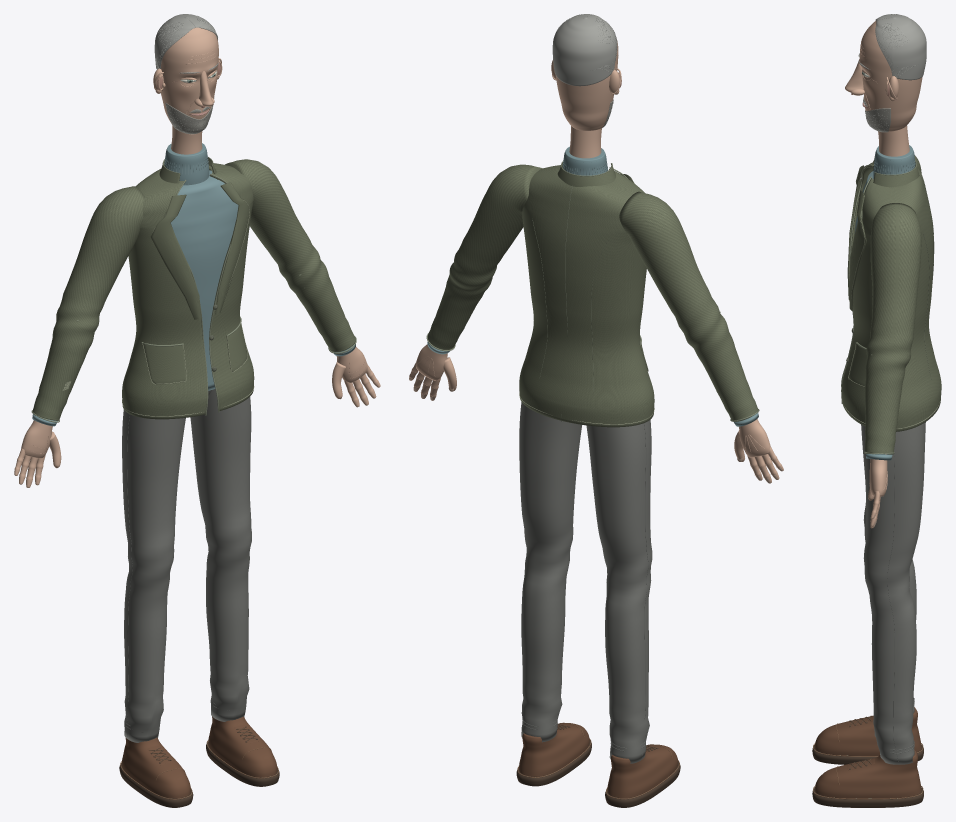
The picture shows the model from 3 angles, left to right: view 1: azimuth 30°, elevation 25°; view 2: azimuth 150°, elevation 25°; view 3: azimuth 270°, elevation 25°; orthographic projection. The views are drawn at different scales.
Visible parts, largest first — view 1: Jacket / tailored continuous torso, L trouser leg, R trouser leg, Jacket / shaped sleeve -1, Jacket / shaped sleeve 1, Underlayer / long sleeved merino body, Shoes / leather upper, Head / continuous aged facial sculpt, Jacket / notched lapel -1, Jacket / notched lapel 1, Jacket / applied hip pocket -1, Shoes / stacked sole (+7 smaller); view 2: Jacket / tailored continuous torso, L trouser leg, R trouser leg, Jacket / shaped sleeve -1, Jacket / shaped sleeve 1, Shoes / leather upper, Hair / receding combed silver cap, Head / continuous aged facial sculpt, Shoes / stacked sole, Hands / palm -1, Body / visible neck, Underlayer / soft raised mock neck (+2 smaller); view 3: R trouser leg, Jacket / shaped sleeve 1, Jacket / tailored continuous torso, Shoes / leather upper, Head / continuous aged facial sculpt, Hair / receding combed silver cap, Shoes / stacked sole, Jacket / notched lapel 1, Underlayer / soft raised mock neck, Body / visible neck, Hands / palm 1, Jacket / standing back collar (+9 smaller).
Part boxes in pixels (<box>): Jacket / tailored continuous torso: <box>122,163,254,419</box>; L trouser leg: <box>122,409,185,742</box>; R trouser leg: <box>190,389,251,721</box>; Jacket / shaped sleeve -1: <box>32,186,144,420</box>; Jacket / shaped sleeve 1: <box>225,159,355,352</box>; Underlayer / long sleeved merino body: <box>171,170,238,390</box>; Shoes / leather upper: <box>122,716,277,798</box>; Head / continuous aged facial sculpt: <box>161,27,218,134</box>; Jacket / notched lapel -1: <box>150,194,201,319</box>; Jacket / notched lapel 1: <box>215,182,250,314</box>; Jacket / applied hip pocket -1: <box>143,343,186,384</box>; Shoes / stacked sole: <box>119,742,279,807</box>; Jacket / tailored continuous torso: <box>519,165,654,427</box>; L trouser leg: <box>586,419,652,763</box>; R trouser leg: <box>519,402,581,742</box>; Jacket / shaped sleeve -1: <box>619,191,758,421</box>; Jacket / shaped sleeve 1: <box>427,164,542,349</box>; Shoes / leather upper: <box>519,723,677,798</box>; Hair / receding combed silver cap: <box>552,14,617,86</box>; Head / continuous aged facial sculpt: <box>555,40,618,130</box>; Shoes / stacked sole: <box>516,740,680,807</box>; Hands / palm -1: <box>739,419,770,457</box>; Body / visible neck: <box>569,126,601,158</box>; Underlayer / soft raised mock neck: <box>563,146,607,175</box>; R trouser leg: <box>861,422,925,764</box>; Jacket / shaped sleeve 1: <box>864,203,921,454</box>; Jacket / tailored continuous torso: <box>841,162,941,431</box>; Shoes / leather upper: <box>815,707,921,798</box>; Head / continuous aged facial sculpt: <box>859,21,922,131</box>; Hair / receding combed silver cap: <box>875,14,926,80</box>; Shoes / stacked sole: <box>812,745,923,807</box>; Jacket / notched lapel 1: <box>849,189,866,310</box>; Underlayer / soft raised mock neck: <box>873,145,915,178</box>; Body / visible neck: <box>878,126,909,156</box>; Hands / palm 1: <box>869,454,887,496</box>; Jacket / standing back collar: <box>872,157,919,187</box>.
Bounding box in the file's own units: 1.02 × 1.99 × 0.3063.
Materials: 29 (1 with a texture image).
